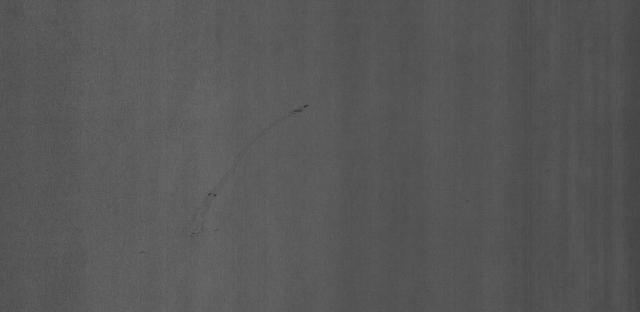water_spot: (192, 88, 314, 249)
